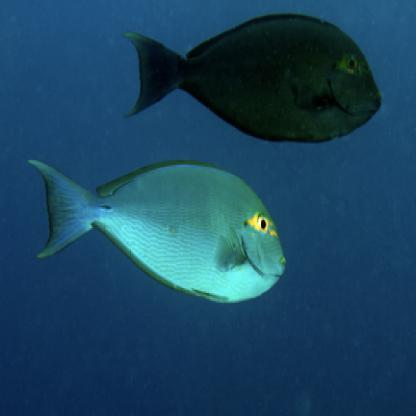surgeon: (28, 160, 288, 305), (123, 14, 385, 145)
